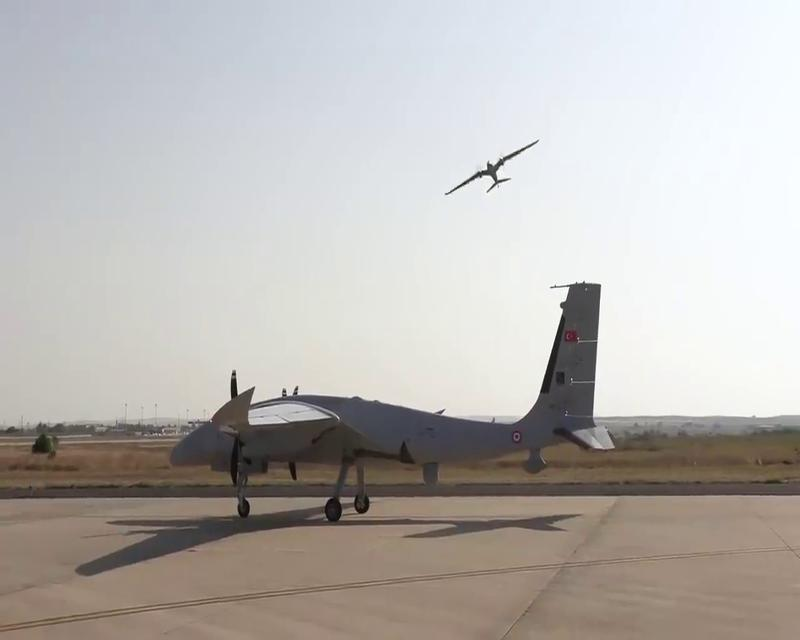UAV: (169, 281, 614, 523), (444, 136, 540, 197)
